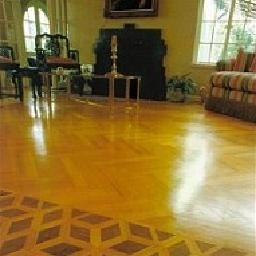Ventana: (194, 1, 253, 65)
